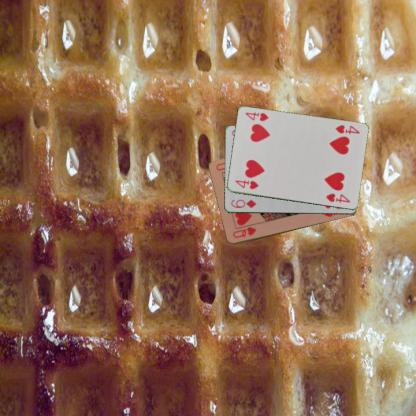4h: (233, 177, 259, 191), (333, 123, 360, 135)
6d: (228, 197, 257, 210)
Qh: (230, 224, 257, 239)
